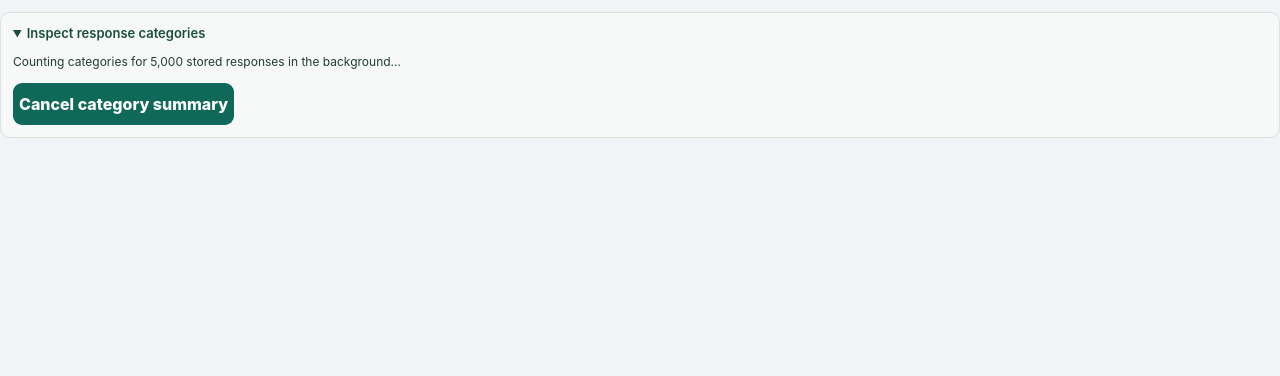
cancel exposes explicit retry without inventing a category count
Step 1. Click the button "Cancel category summary" → [124, 104], box [13,83,234,125]
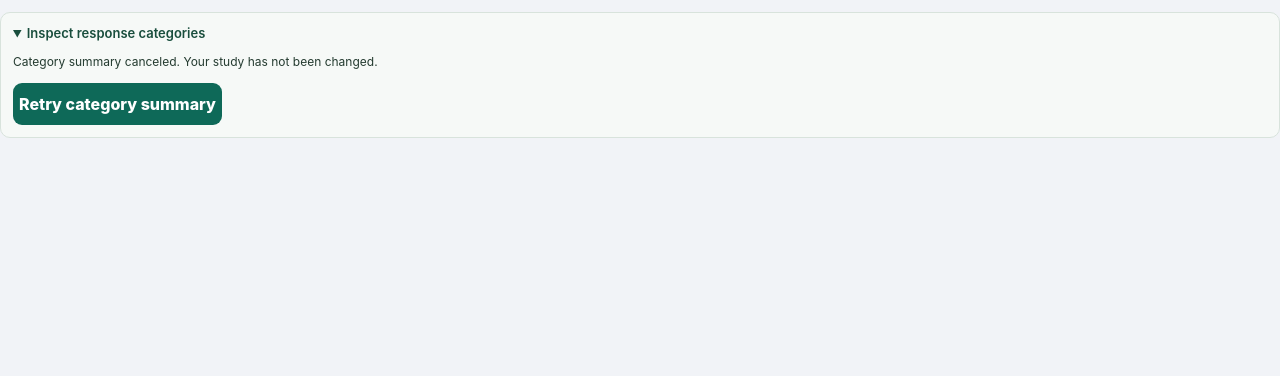
Check: the text "canceled" is shown, box [13,54,378,69]
Step 2. Click the button "Retry category summary" → [117, 104], box [13,83,222,125]
Wait 100 ms
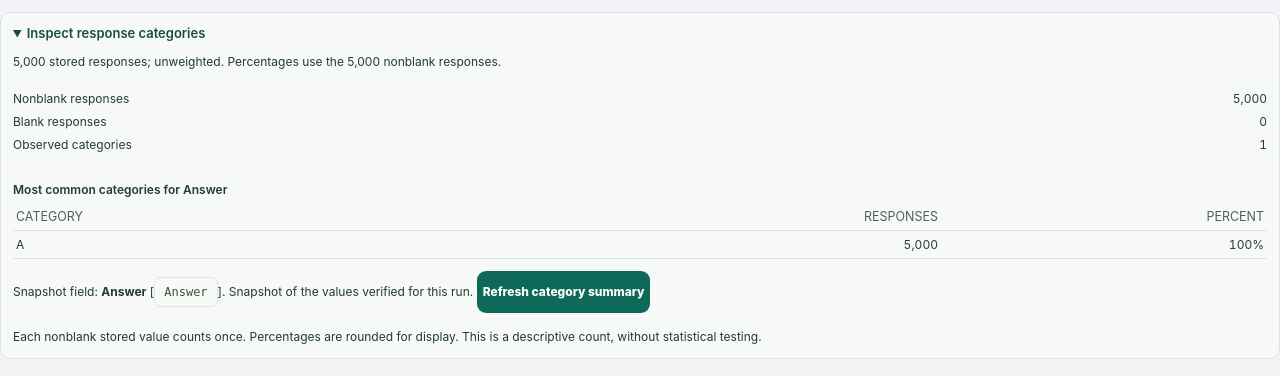
Check: the table is shown, box [13,172,1267,259]
